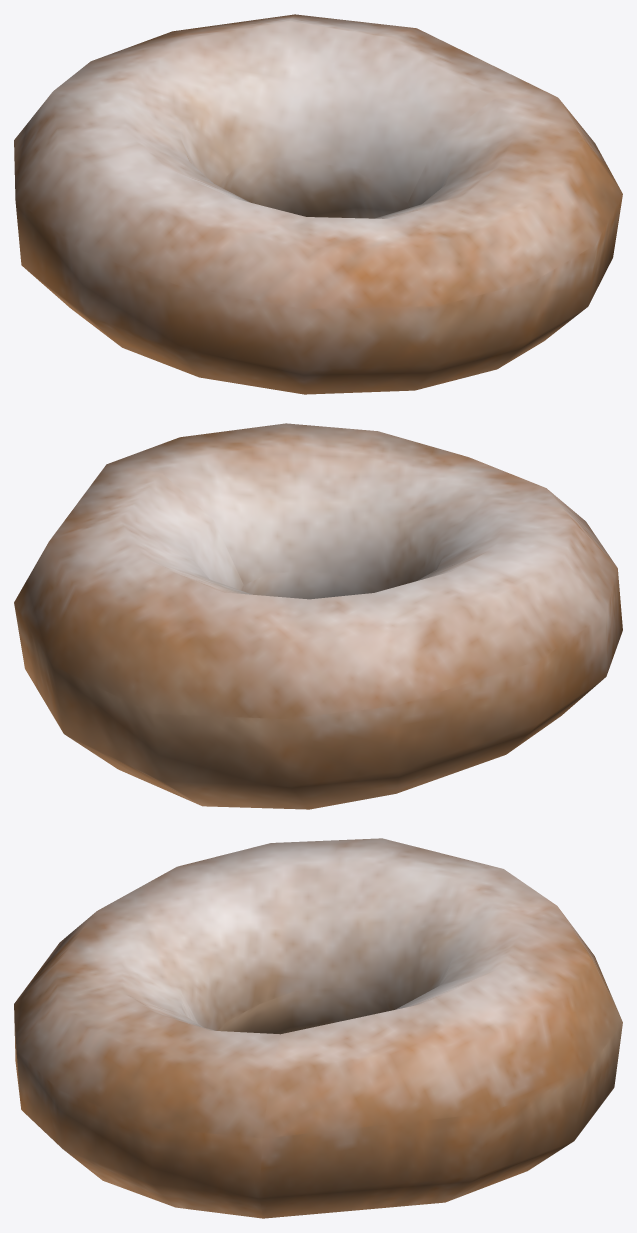
File: tort4.fbx
3 views of the same model, one above another, from view 1: azimuth 30°, elevation 25°; view 2: azimuth 150°, elevation 25°; view 3: azimuth 270°, elevation 25° (orthographic). The views are drawn at different scales.
Parts seen in each view (by area): view 1: Cube_23_low; view 2: Cube_23_low; view 3: Cube_23_low.
Boxes of the visible parts, x1=… form: Cube_23_low: x1=14, y1=14, x2=622, y2=394; Cube_23_low: x1=14, y1=423, x2=622, y2=809; Cube_23_low: x1=14, y1=838, x2=622, y2=1218.
Size of the model in its own units: 78.01 by 28.79 by 80.46.
